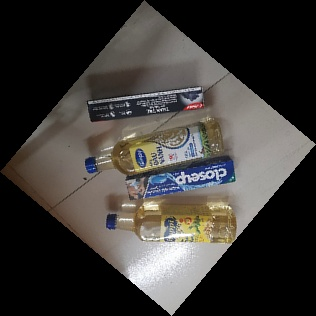CloseUp Tuyet: (126, 156, 237, 201)
Colgate Than: (85, 85, 205, 122)
Happy Soya: (104, 202, 237, 249)
Simply: (83, 119, 227, 174)
